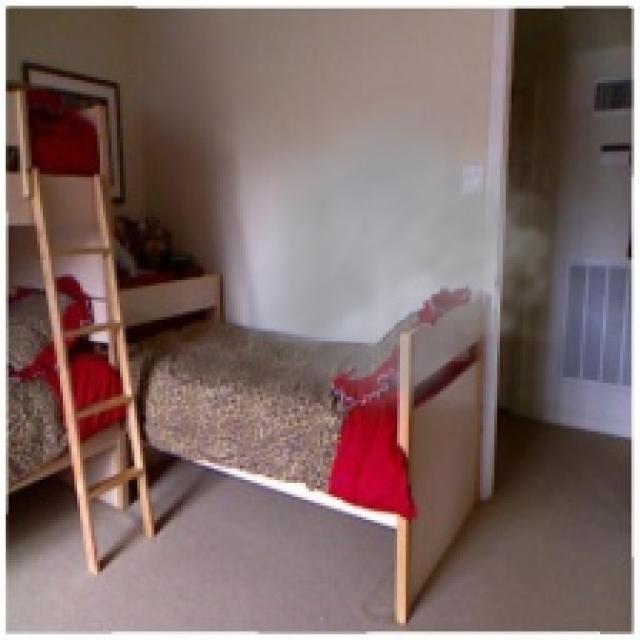smoke: (248, 83, 592, 428)
